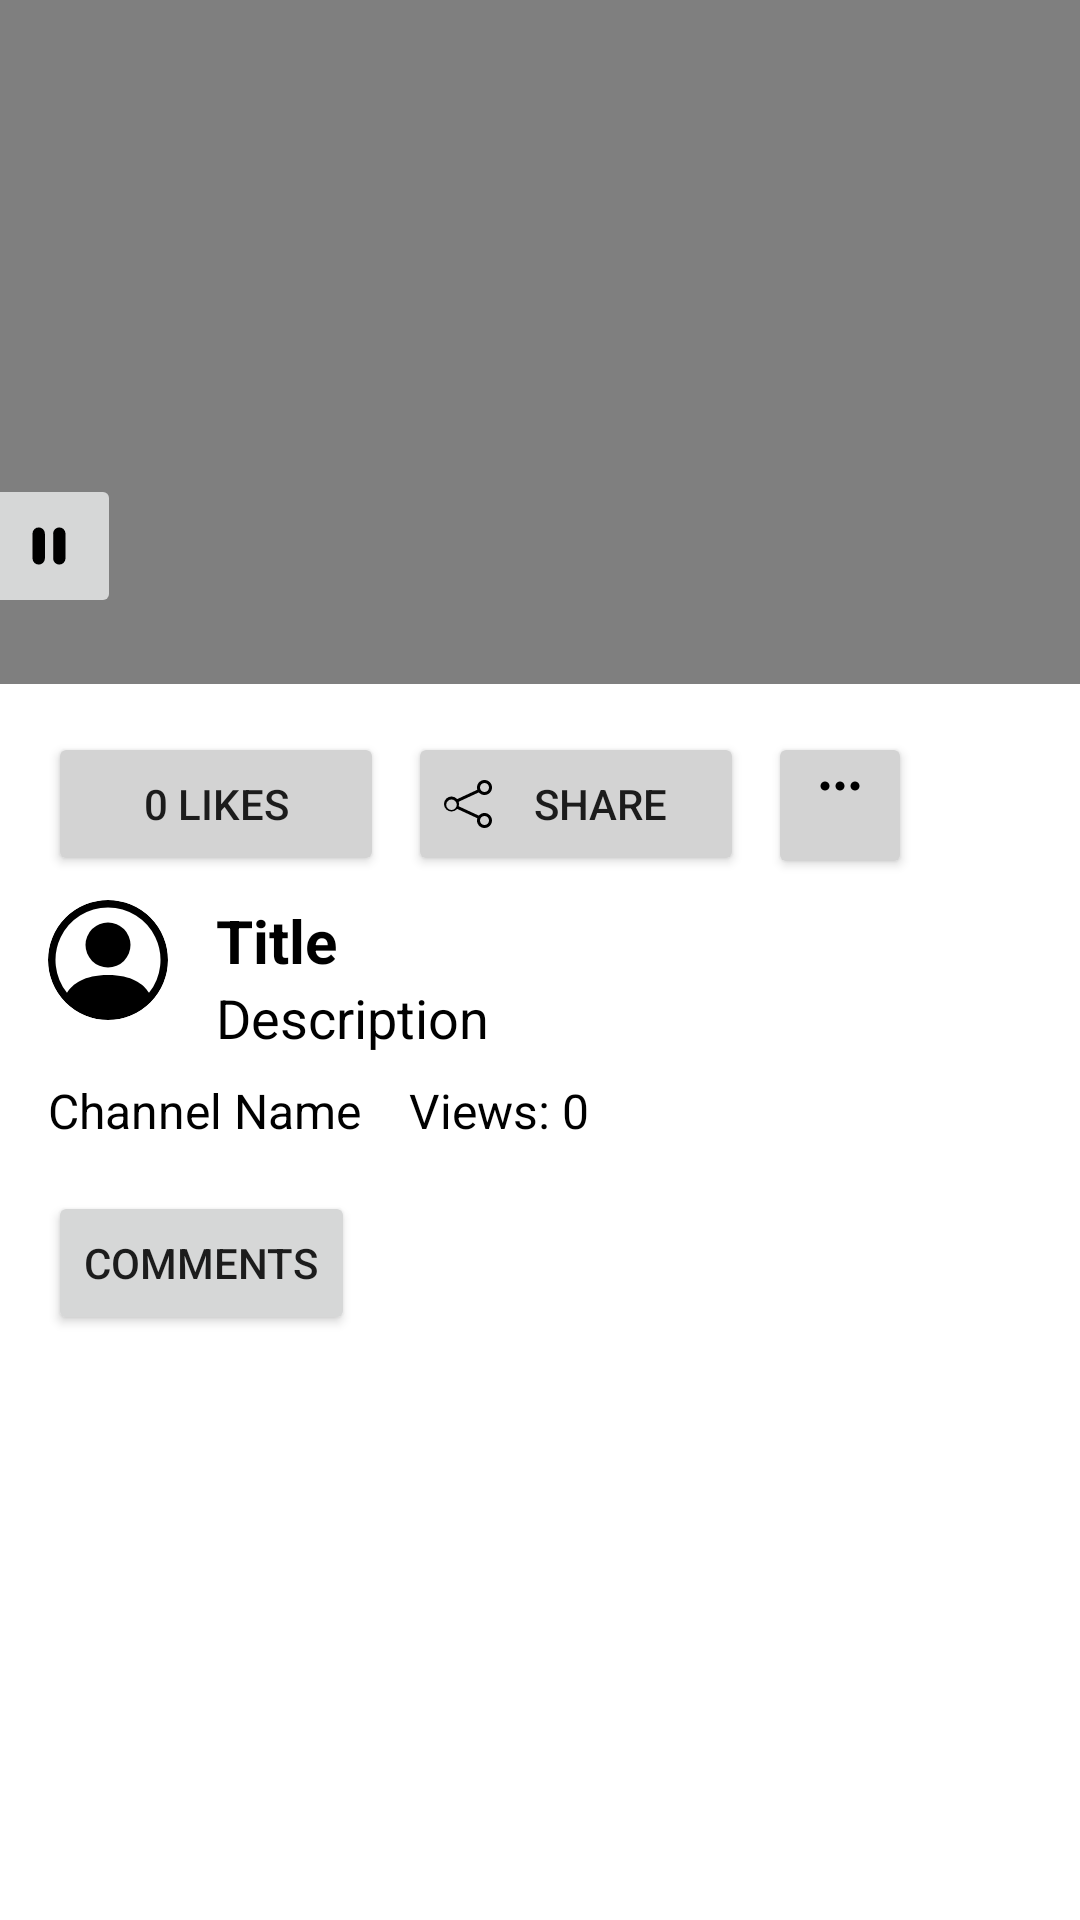

Icons on this 1080*1920 Android screen, each with the point to tap as [x,y]:
person: [108,960]
